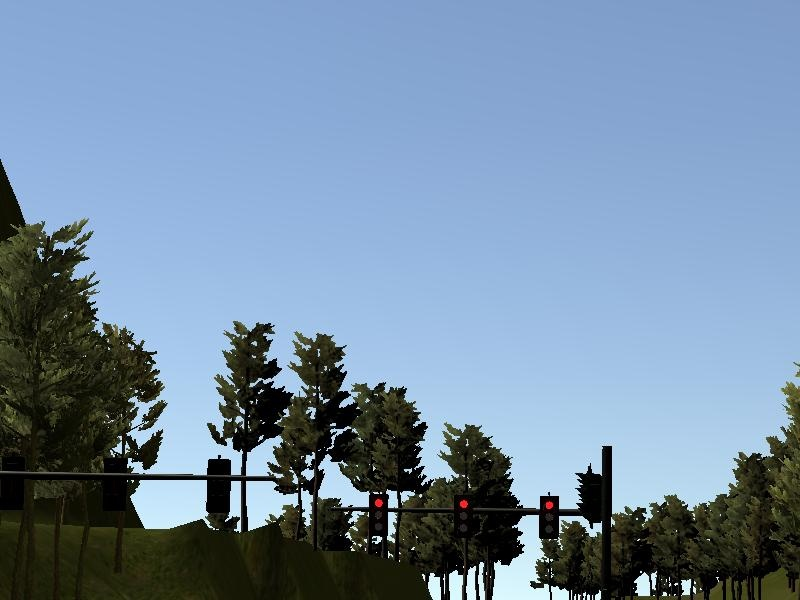red: (540, 495, 560, 540), (455, 494, 474, 539), (369, 494, 388, 536)
